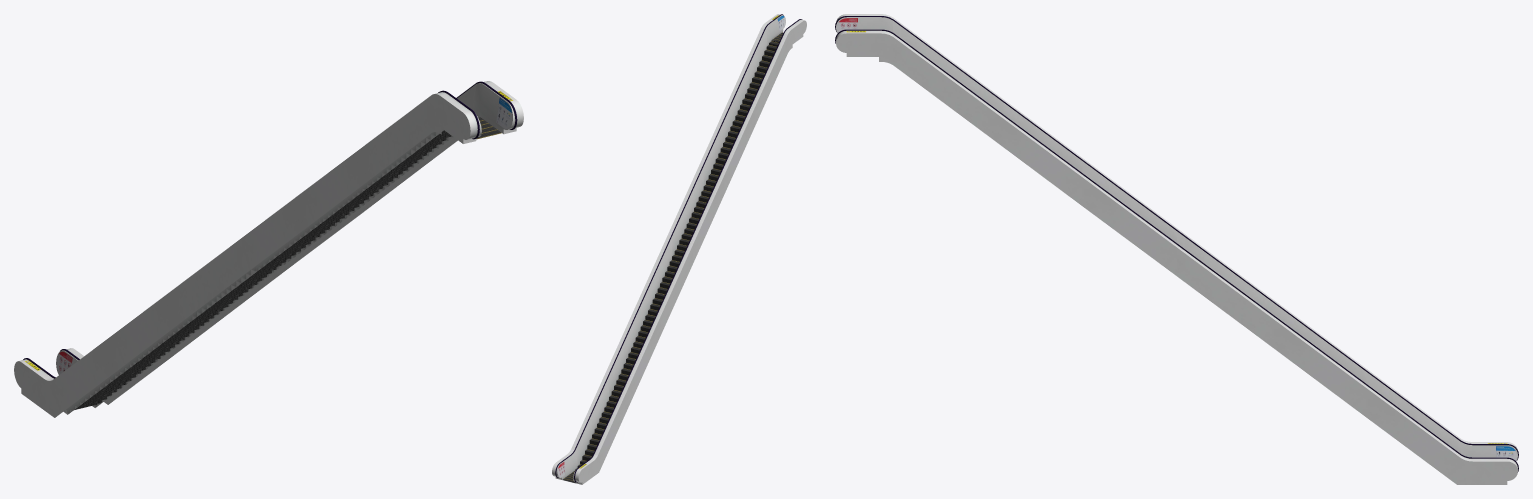
3 renders of one model, left to right at view 1: azimuth 30°, elevation 25°; view 2: azimuth 150°, elevation 25°; view 3: azimuth 270°, elevation 25°, orthographic. The views are drawn at different scales.
Parts seen in each view (by area): view 1: 20M扶梯; view 2: 20M扶梯; view 3: 20M扶梯.
Boxes of the visible parts, x1,y1,x2,y2 form: 20M扶梯: (14, 81, 523, 417); 20M扶梯: (552, 14, 806, 484); 20M扶梯: (835, 14, 1518, 484).
Bounding box in the file's own units: 1.95 × 21.14 × 28.96.
Materials: 1 (1 with a texture image).
